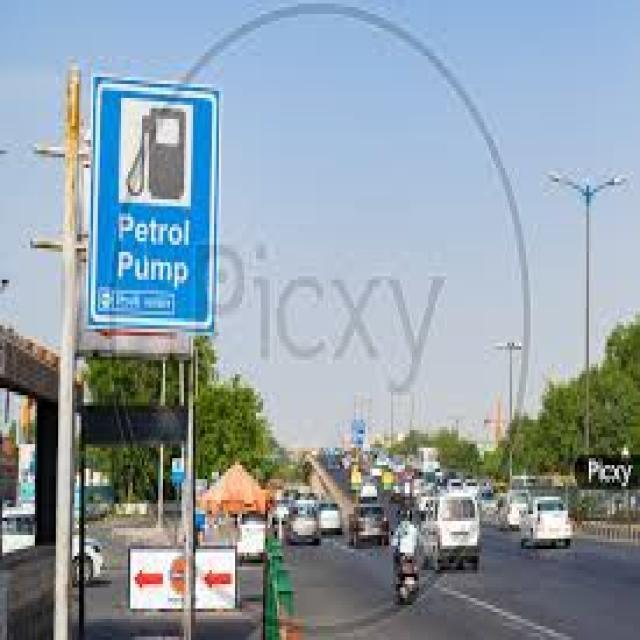petrol pump ahead: (109, 87, 206, 223)
